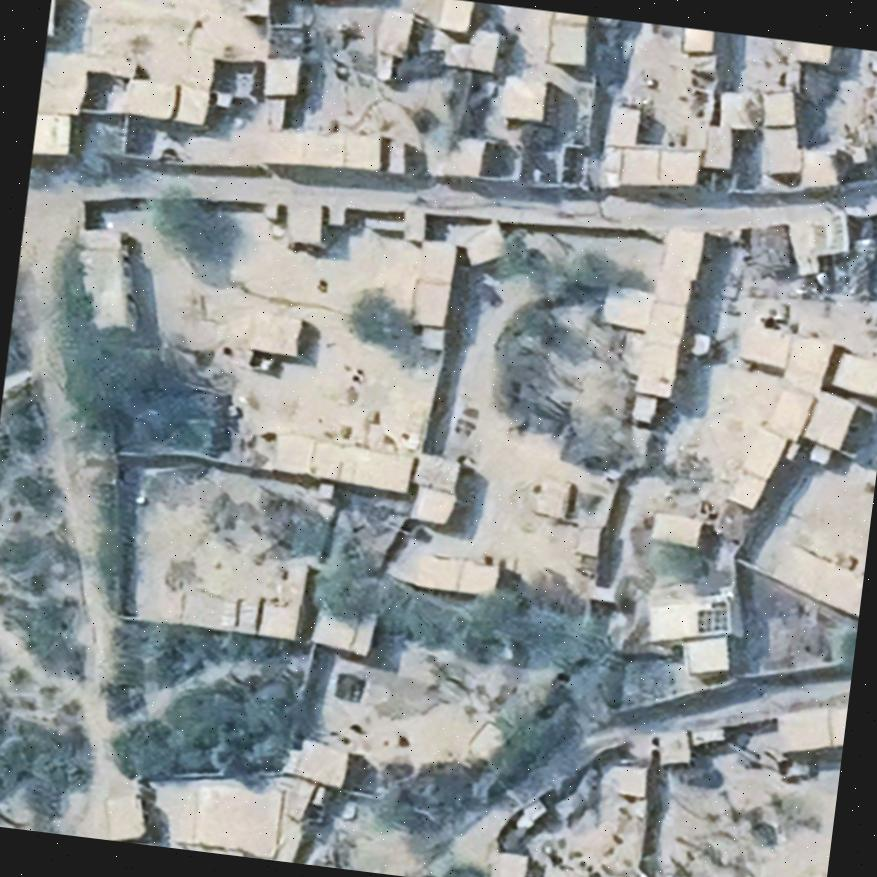Solarpanel: (811, 206, 847, 255), (694, 594, 734, 637)
